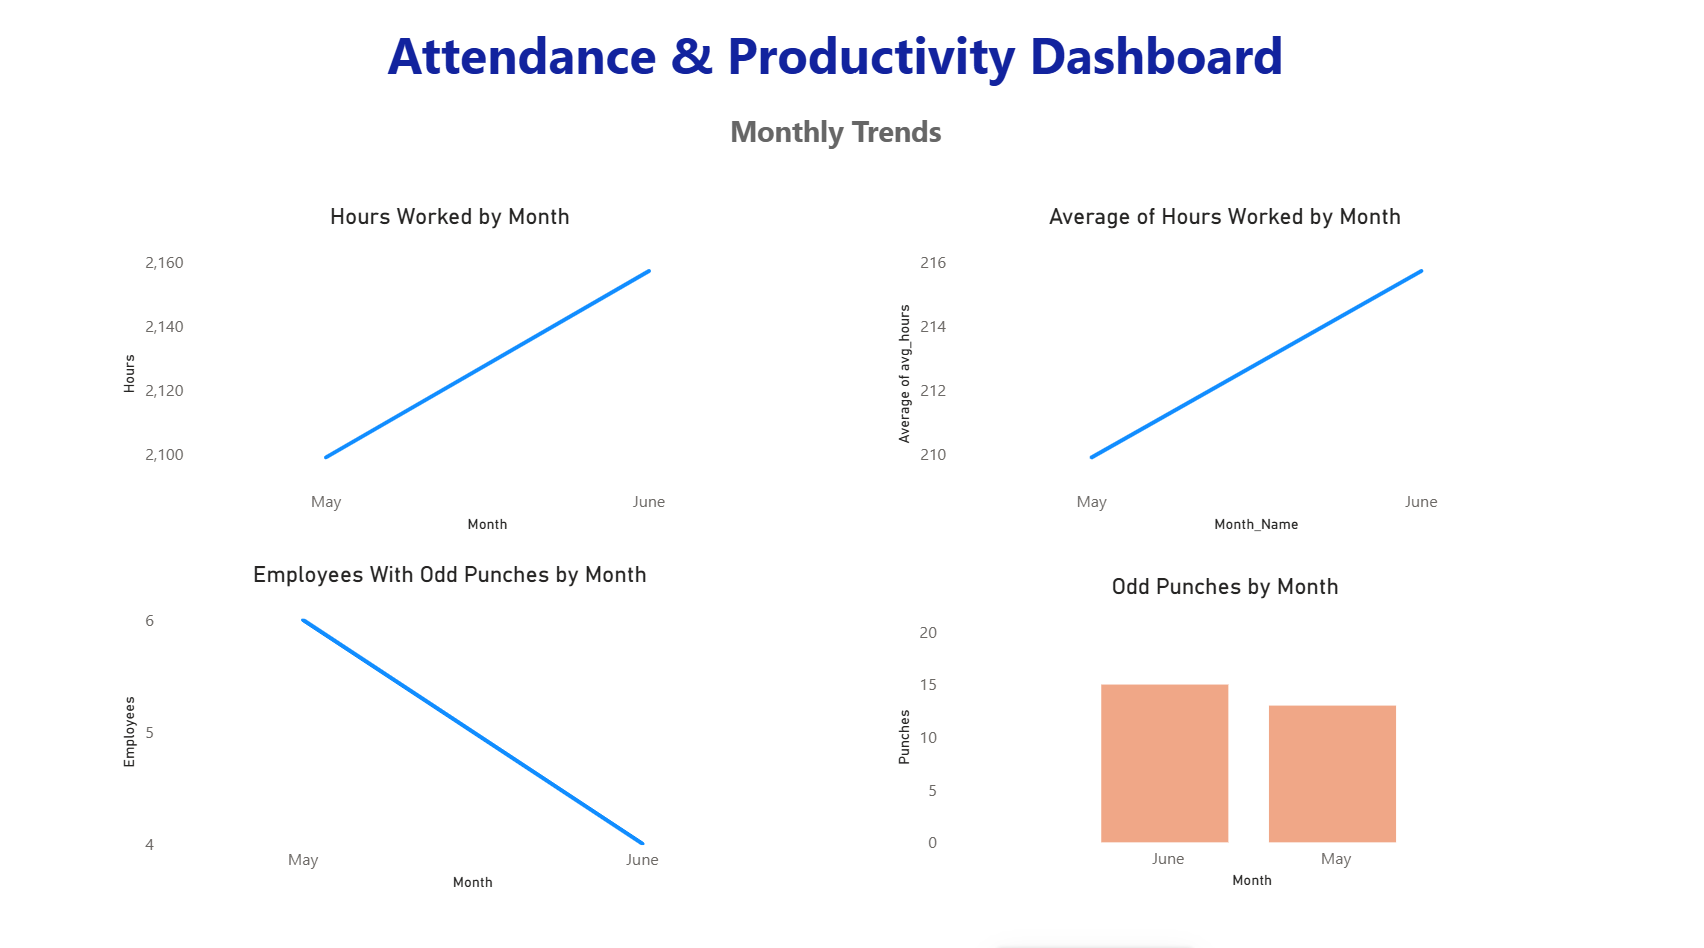

This screenshot's page, from the dashboard's own definition file:
{"tool":"powerbi","page":{"name":"Monthly Trends","canvas":[1280,720],"ordinal":3},"visuals":[{"type":"lineChart","title":"Hours worked incresed in June","fields":{"Y":["Sum(public vw_company_summary.total_hours)"],"Category":["public vw_company_summary.Month_Name"]},"box":[91,131.9,547.5,270],"z":0},{"type":"lineChart","title":"Average hours per employee rose in June","fields":{"Category":["public vw_company_summary.Month_Name"],"Y":["Avg(public vw_company_summary.avg_hours)"]},"box":[679.4,131.9,544.5,270],"z":1000},{"type":"lineChart","title":"Fewer employees had odd punches in June","fields":{"Category":["public vw_company_summary.Month_Name"],"Y":["Sum(public vw_company_summary.employees_with_odd_punches)"]},"box":[89.5,417.1,529.3,273],"z":2000},{"type":"columnChart","title":"Odd punches rose in June","fields":{"Category":["public vw_employee_summary.Month_Name"],"Y":["Sum(public vw_employee_summary.Odd_Punches)"]},"box":[665.8,417.1,558.1,273],"z":3000},{"type":"textbox","box":[91,31.8,1096.5,100.1],"z":4000}]}

Visuals, with their boxes in screenshot pixels (x1, y1, x2, y2), scaled from the page's 1280x720 canvas onto the 1704x948 screenshot:
"Hours worked incresed in June" lineChart: BBox(121, 174, 850, 529)
"Average hours per employee rose in June" lineChart: BBox(904, 174, 1629, 529)
"Fewer employees had odd punches in June" lineChart: BBox(119, 549, 824, 909)
"Odd punches rose in June" columnChart: BBox(886, 549, 1629, 909)
textbox: BBox(121, 42, 1581, 174)
